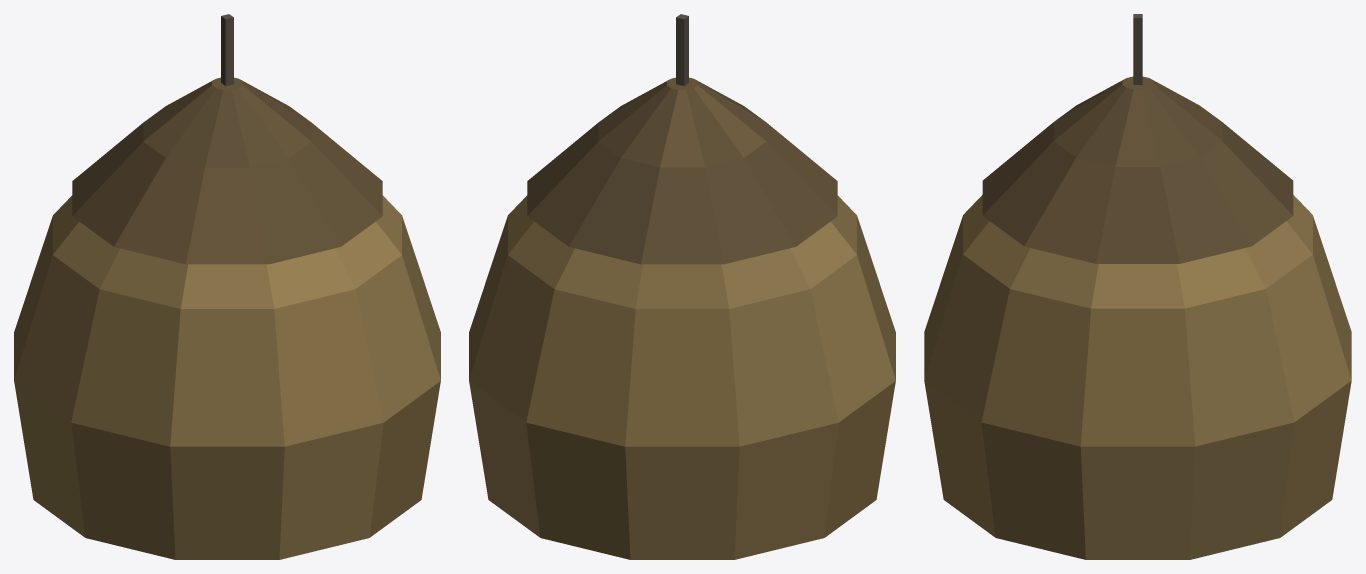
The model's file is walk_prop_haystack.glb.
3 views of the same model, side by side, from view 1: azimuth 30°, elevation 25°; view 2: azimuth 150°, elevation 25°; view 3: azimuth 270°, elevation 25° (orthographic).
Visible parts, largest first — view 1: walk_prop_haystack; view 2: walk_prop_haystack; view 3: walk_prop_haystack.
Boxes of the visible parts, x1=… form: walk_prop_haystack: x1=14, y1=14, x2=440, y2=559; walk_prop_haystack: x1=469, y1=14, x2=895, y2=559; walk_prop_haystack: x1=924, y1=14, x2=1351, y2=559.
Size of what is drawn, in the model's own units: 3.19 by 3.8 by 3.19.
Materials: 1 (1 with a texture image).
